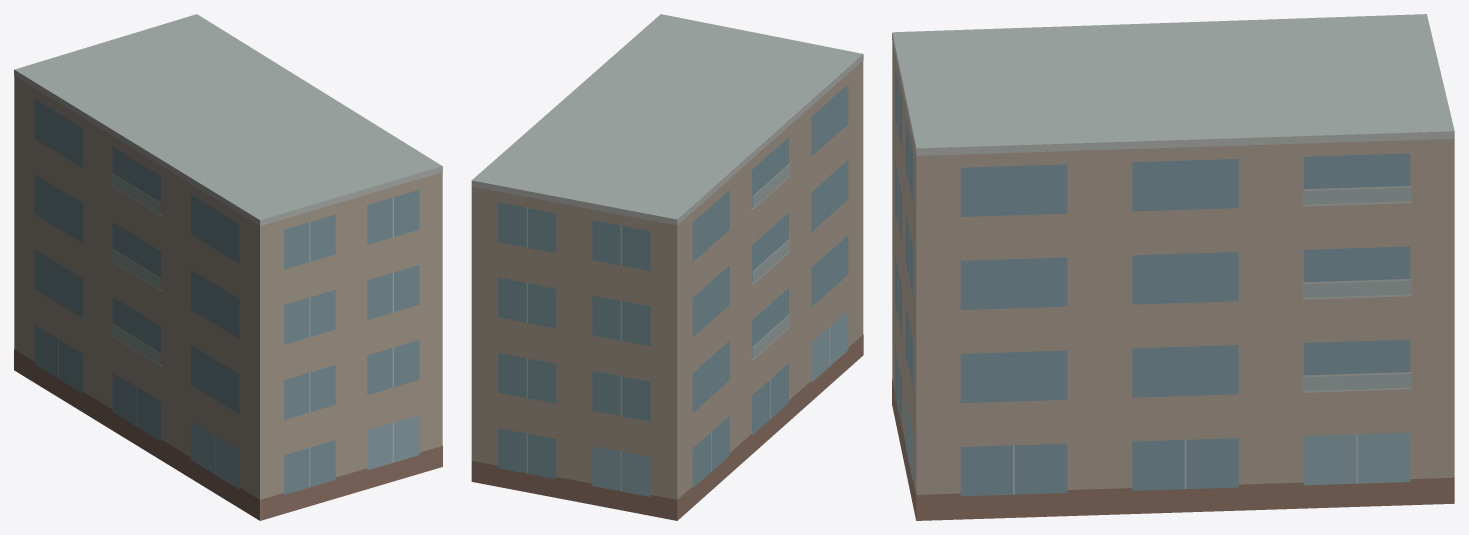
Rendered from survey-upis-32702350.glb.
3 renders of one model, left to right at view 1: azimuth 30°, elevation 25°; view 2: azimuth 150°, elevation 25°; view 3: azimuth 270°, elevation 25°, orthographic. The views are drawn at different scales.
Parts seen in each view (by area): view 1: survey-upis-32702350.tmp; view 2: survey-upis-32702350.tmp; view 3: survey-upis-32702350.tmp.
Boxes of the visible parts, x1,y1,x2,y2 form: survey-upis-32702350.tmp: [14, 14, 442, 520]; survey-upis-32702350.tmp: [471, 14, 863, 520]; survey-upis-32702350.tmp: [892, 14, 1454, 520].
Size of the model in its own units: 9.46 by 12.2 by 16.71.
